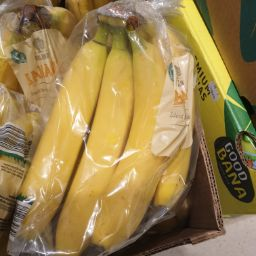Bannana: (46, 9, 200, 250), (30, 66, 190, 249), (48, 7, 196, 191)
